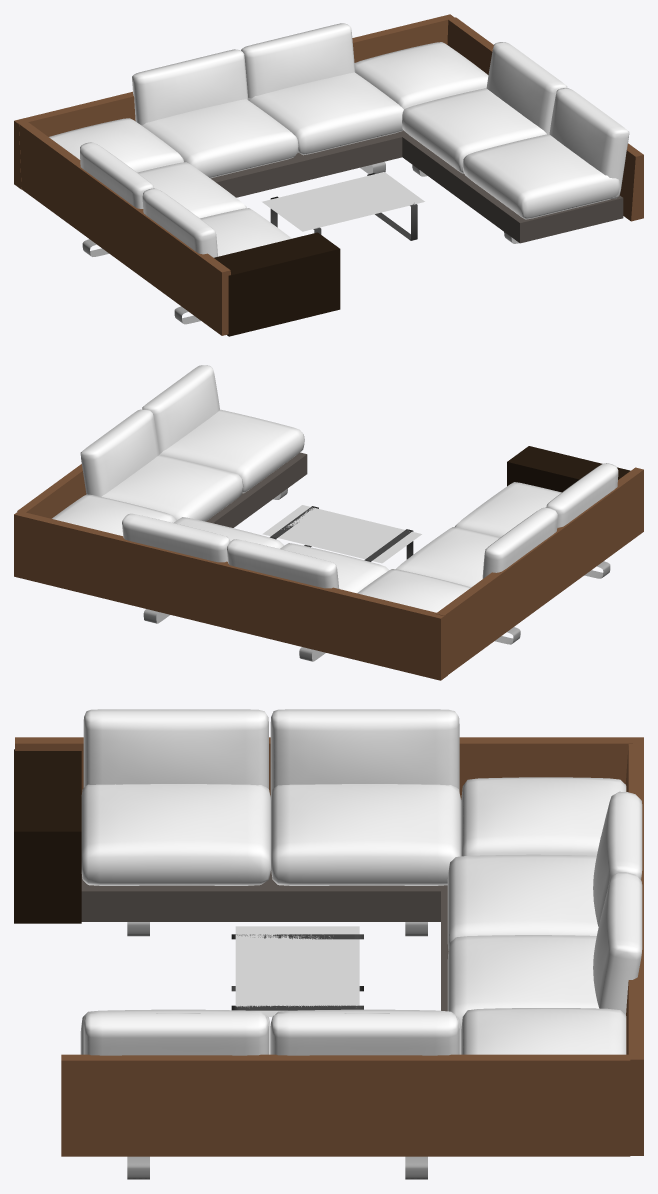
The model's file is Couch2.1.fbx.
The picture shows the model from 3 angles, top to bottom: view 1: azimuth 30°, elevation 25°; view 2: azimuth 150°, elevation 25°; view 3: azimuth 270°, elevation 25°; orthographic projection. The views are drawn at different scales.
Parts seen in each view (by area): view 1: Cube, Plane; view 2: Cube, Plane; view 3: Cube, Plane.
Part boxes in pixels (x1,y1,x2,y2): Cube: (14, 14, 643, 336); Plane: (262, 172, 424, 240); Cube: (14, 365, 643, 680); Plane: (262, 505, 421, 563); Cube: (14, 709, 643, 1179); Plane: (231, 926, 363, 1016).
Size of the model in its own units: 342 by 78.43 by 279.
